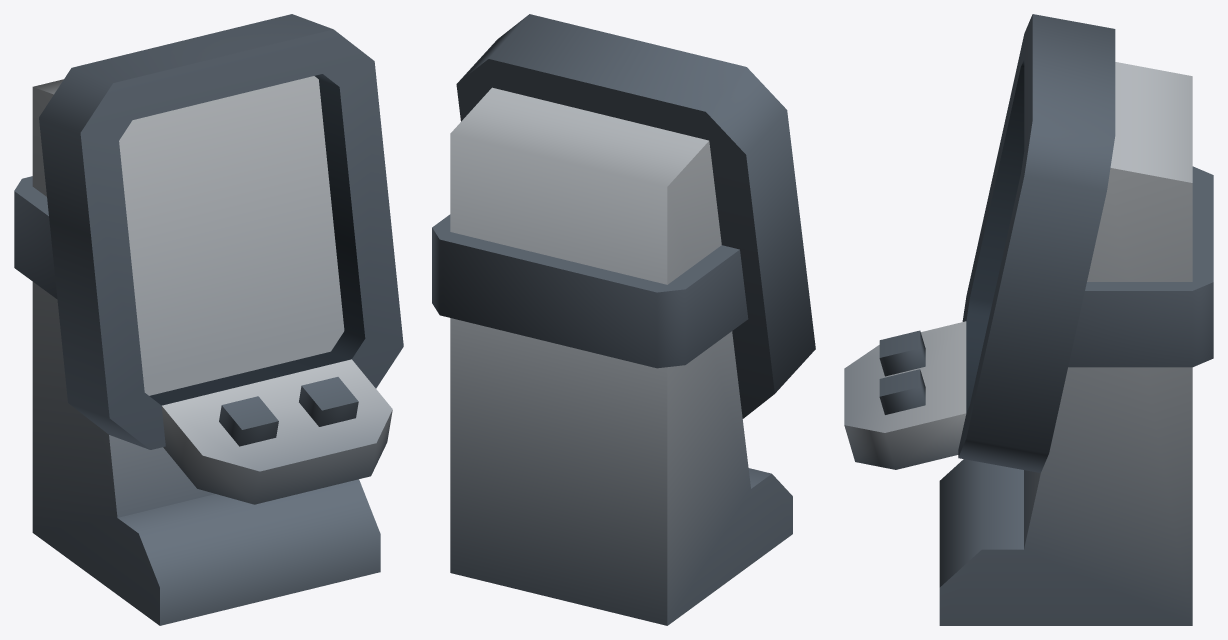
The model's file is computer.glb.
The picture shows the model from 3 angles, left to right: view 1: azimuth 30°, elevation 25°; view 2: azimuth 150°, elevation 25°; view 3: azimuth 270°, elevation 25°; orthographic projection.
Parts seen in each view (by area): view 1: computer; view 2: computer; view 3: computer.
Boxes of the visible parts, left/top/right/bottom form: computer: left=14, top=14, right=403, bottom=625; computer: left=432, top=14, right=815, bottom=625; computer: left=844, top=14, right=1213, bottom=625.
Bounding box in the file's own units: 0.4 × 0.6609 × 0.4381.
